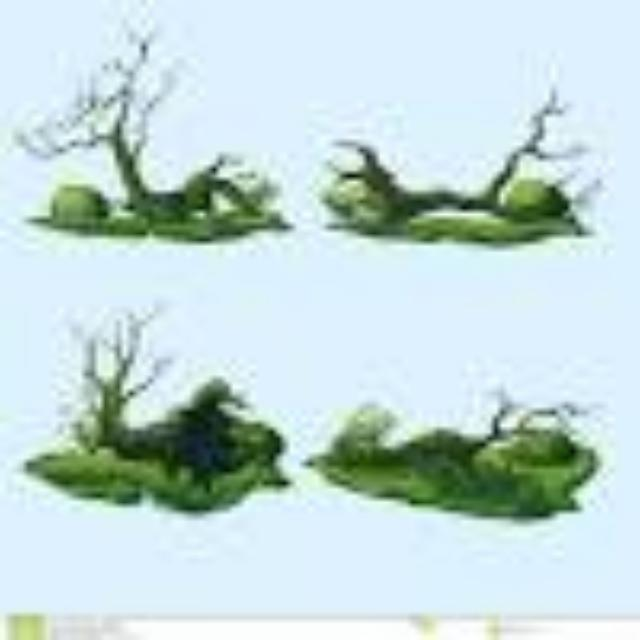fallen_tree: (26, 25, 242, 223), (345, 84, 607, 236), (58, 308, 242, 492), (346, 397, 582, 499)
